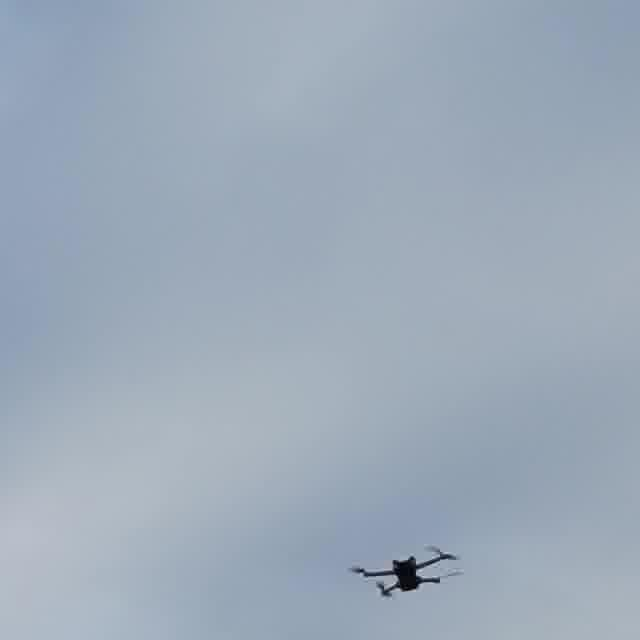Drohne: (351, 546, 460, 596)
